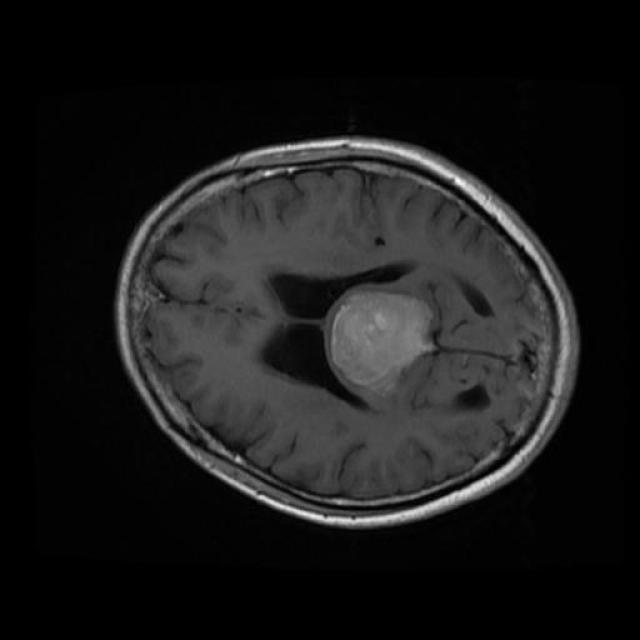Meningioma: (326, 286, 436, 395)
